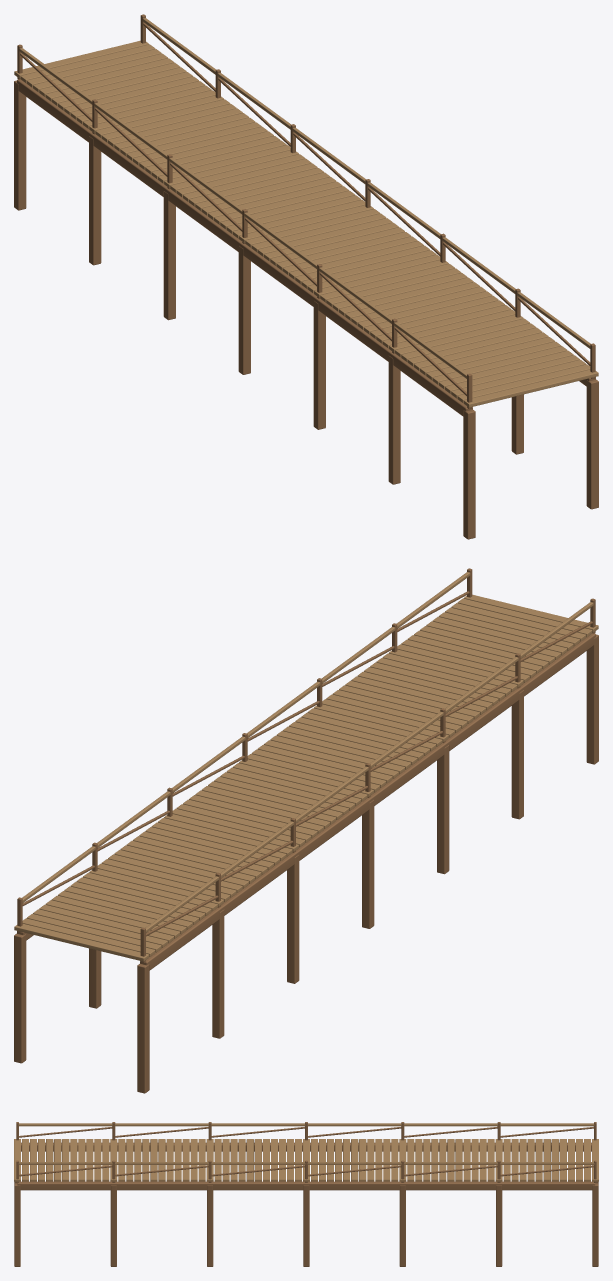
File: Bridge_Wood.glb
3 views of the same model, one above another, from view 1: azimuth 30°, elevation 25°; view 2: azimuth 150°, elevation 25°; view 3: azimuth 270°, elevation 25° (orthographic). The views are drawn at different scales.
Visible parts, largest first — view 1: Bridge_Wood; view 2: Bridge_Wood; view 3: Bridge_Wood.
Part boxes in pixels (x1,y1,x2,y2): Bridge_Wood: (14,14,598,539); Bridge_Wood: (14,568,598,1093); Bridge_Wood: (14,1122,598,1266).
Bounding box in the file's own units: 6.08 × 7.2 × 36.44.
